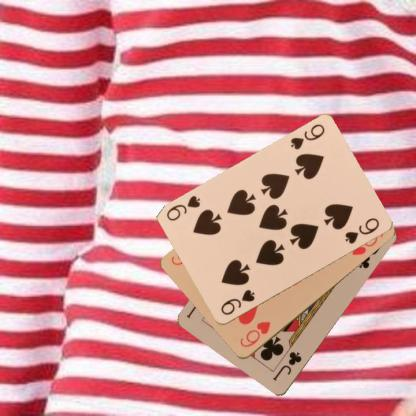6h: (237, 319, 272, 349)
9s: (218, 287, 256, 317), (288, 122, 326, 152)
Jc: (270, 349, 304, 383)
